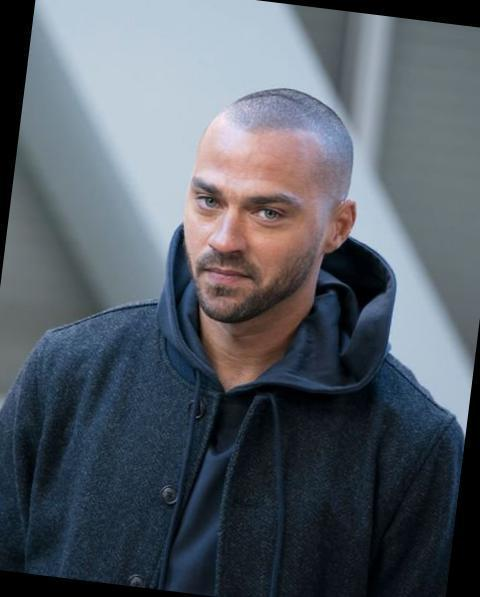Sober: (188, 129, 316, 315)
